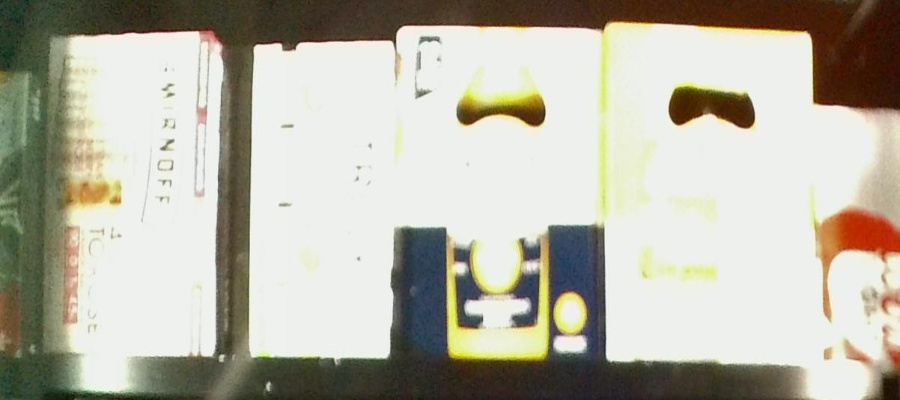bottle: (605, 20, 812, 364), (398, 23, 604, 361), (43, 30, 222, 358), (247, 40, 395, 370), (812, 104, 900, 368)
